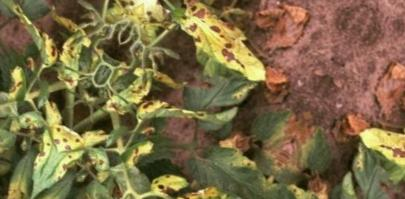Tomato Early blight leaf: (167, 0, 278, 84), (24, 109, 121, 199), (137, 70, 226, 152), (143, 154, 246, 199)
